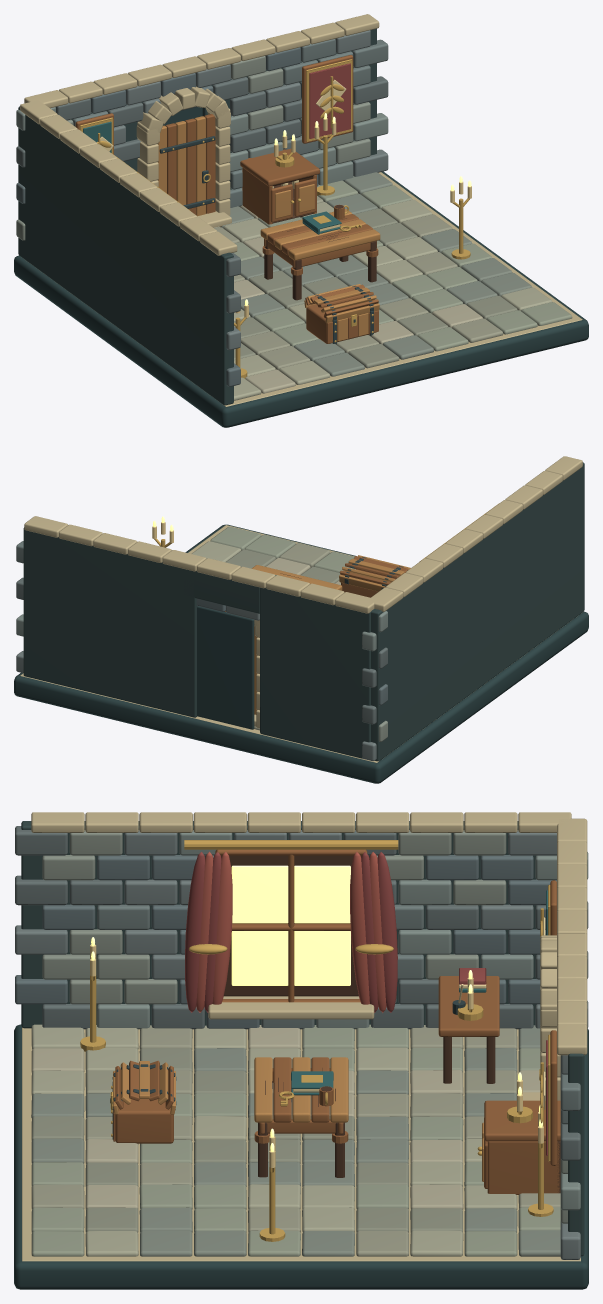
File: custodian-room.glb
3 renders of one model, top to bottom at view 1: azimuth 30°, elevation 25°; view 2: azimuth 150°, elevation 25°; view 3: azimuth 270°, elevation 25°, orthographic. The views are drawn at different scales.
Visible parts, largest first — view 1: Room_Deep mortar, Room_Carved sandstone, Room_Foundation, Room_Paving_03, Room_Paving_05, Room_Honey oak, Room_Paving_02, Room_Limestone_05, Room_Paving_00, Room_Paving_01, Room_Limestone_01, Room_Limestone_04 (+15 smaller); view 2: Room_Deep mortar, Room_Foundation, Room_Carved sandstone, Room_Paving_05, Room_Paving_00, Room_Limestone_05, Room_Paving_01, Room_Limestone_01, Room_Paving_02, Room_Limestone_02, Room_Oak end grain, Room_Paving_04; view 3: Room_Carved sandstone, Room_Paving_03, Room_Paving_05, Room_Foundation, Room_Honey oak, Room_Paving_02, Room_Limestone_04, Room_Paving_01, Room_Limestone_00, Room_Candle glow, Room_Limestone_05, Room_Paving_00 (+11 smaller).
Boxes of the visible parts, <box> form: Room_Deep mortar: <box>18,28,376,405</box>; Room_Carved sandstone: <box>20,14,582,406</box>; Room_Foundation: <box>14,107,588,427</box>; Room_Paving_03: <box>220,172,531,376</box>; Room_Paving_05: <box>233,180,572,351</box>; Room_Honey oak: <box>75,55,378,343</box>; Room_Paving_02: <box>223,199,552,400</box>; Room_Limestone_05: <box>16,76,388,313</box>; Room_Paving_00: <box>234,208,517,368</box>; Room_Paving_01: <box>214,196,503,370</box>; Room_Limestone_01: <box>114,30,388,350</box>; Room_Limestone_04: <box>16,56,370,240</box>; Room_Deep mortar: <box>23,462,584,761</box>; Room_Foundation: <box>14,524,588,783</box>; Room_Carved sandstone: <box>20,456,582,762</box>; Room_Paving_05: <box>210,526,354,572</box>; Room_Paving_00: <box>226,549,340,583</box>; Room_Limestone_05: <box>16,577,387,724</box>; Room_Paving_01: <box>279,543,330,566</box>; Room_Limestone_01: <box>16,605,376,761</box>; Room_Paving_02: <box>191,541,259,730</box>; Room_Limestone_02: <box>16,611,387,651</box>; Room_Oak end grain: <box>252,565,342,590</box>; Room_Paving_04: <box>265,557,340,584</box>; Room_Carved sandstone: <box>22,812,587,1261</box>; Room_Paving_03: <box>31,1025,560,1256</box>; Room_Paving_05: <box>31,1024,560,1256</box>; Room_Foundation: <box>14,1024,588,1289</box>; Room_Honey oak: <box>113,849,560,1194</box>; Room_Paving_02: <box>31,1024,517,1256</box>; Room_Limestone_04: <box>42,830,567,1223</box>; Room_Paving_01: <box>31,1025,560,1256</box>; Room_Limestone_00: <box>15,855,556,1029</box>; Room_Candle glow: <box>91,865,542,1151</box>; Room_Limestone_05: <box>15,826,588,1160</box>; Room_Paving_00: <box>31,1048,462,1232</box>.
Size of the model in its own units: 8.5 by 3.89 by 8.5.
